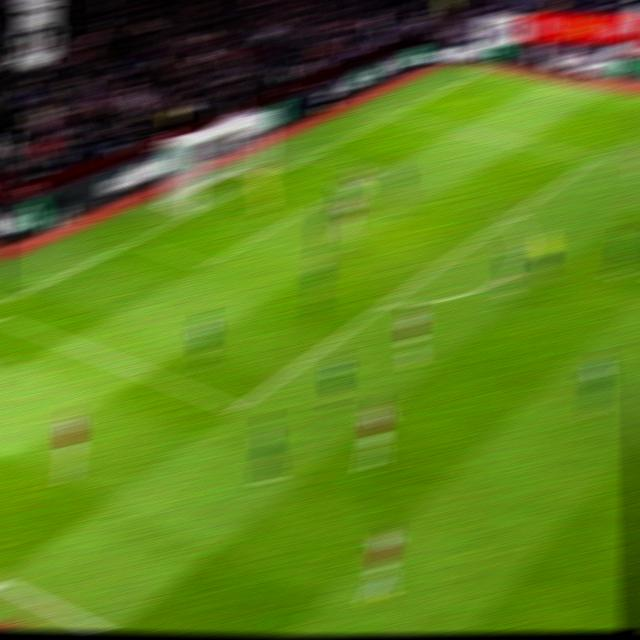bigarea_bottom_inner: (220, 394, 253, 421)
bigarea_top_inner: (582, 148, 608, 166)
bigarea_top_outter: (383, 107, 407, 121)
bottom_arc_area_intersection: (370, 292, 398, 314)
corner: (470, 64, 498, 77)
smallarea_bottom_inner: (191, 250, 219, 276)
smallarea_bottom_outter: (122, 228, 150, 250)
smallarea_top_inner: (362, 161, 388, 180)
smallarea_top_outter: (300, 146, 326, 162)
top_arc_area_intersection: (498, 207, 524, 224)
